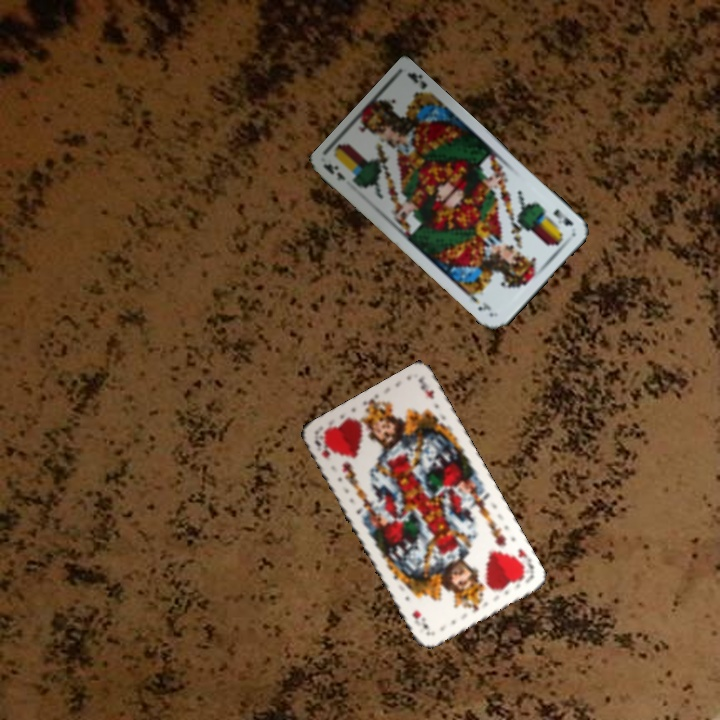EK: (320, 160, 348, 183), (549, 205, 575, 229)
HK: (509, 545, 537, 580), (311, 433, 333, 461)
